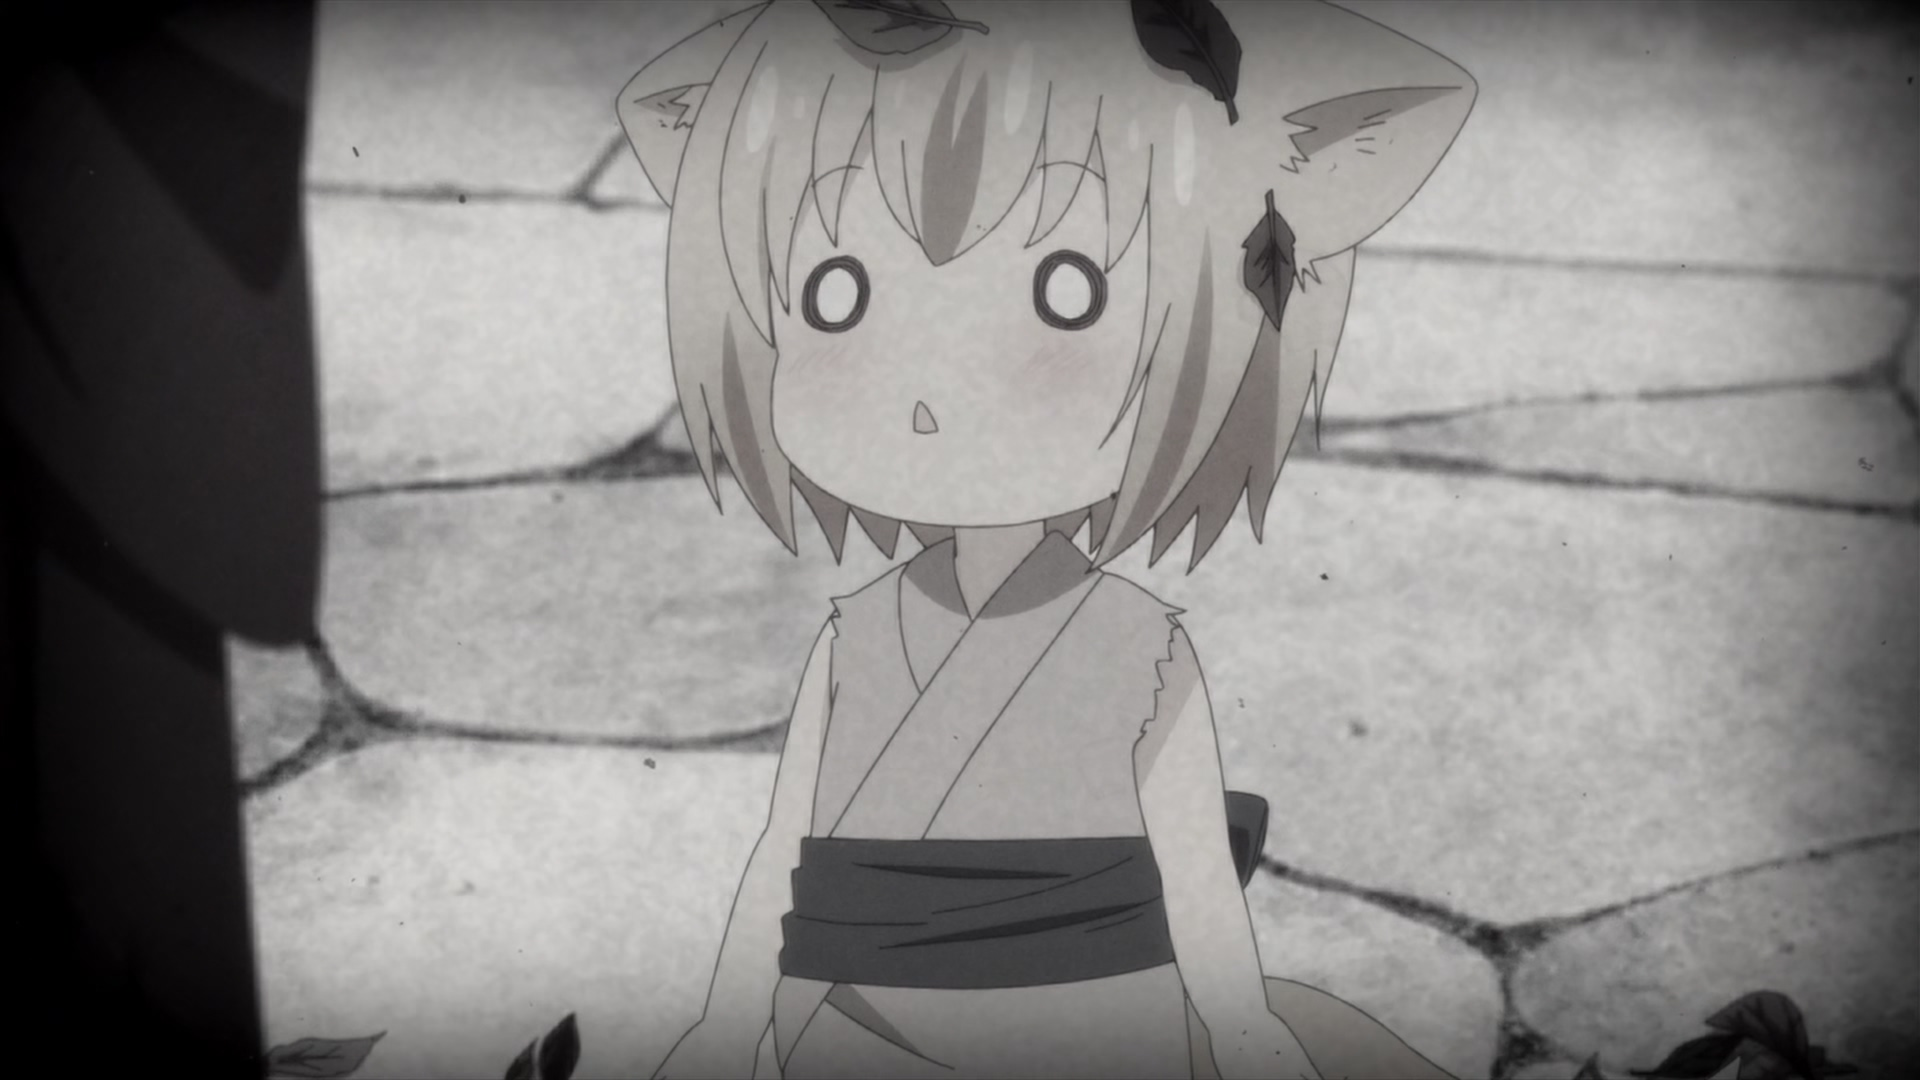柚: (617, 1, 1477, 1080)
